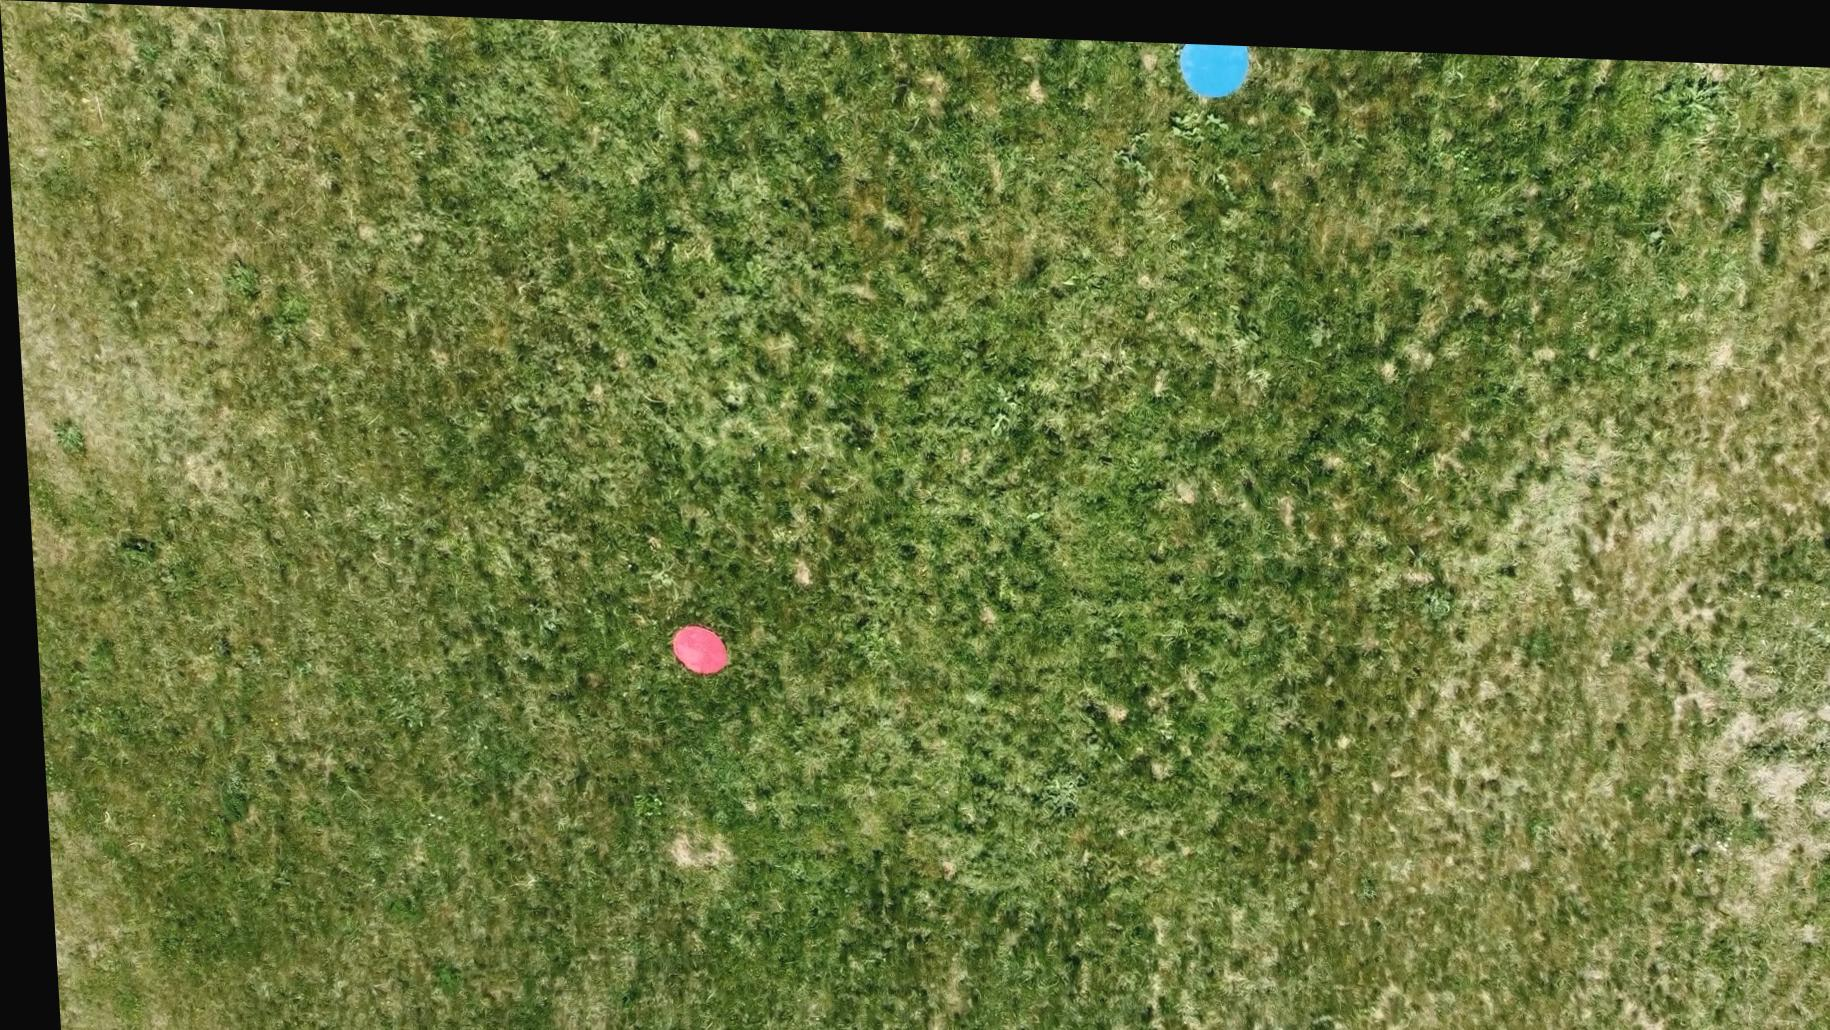Blue: (1176, 34, 1256, 94)
Red: (664, 620, 721, 673)
